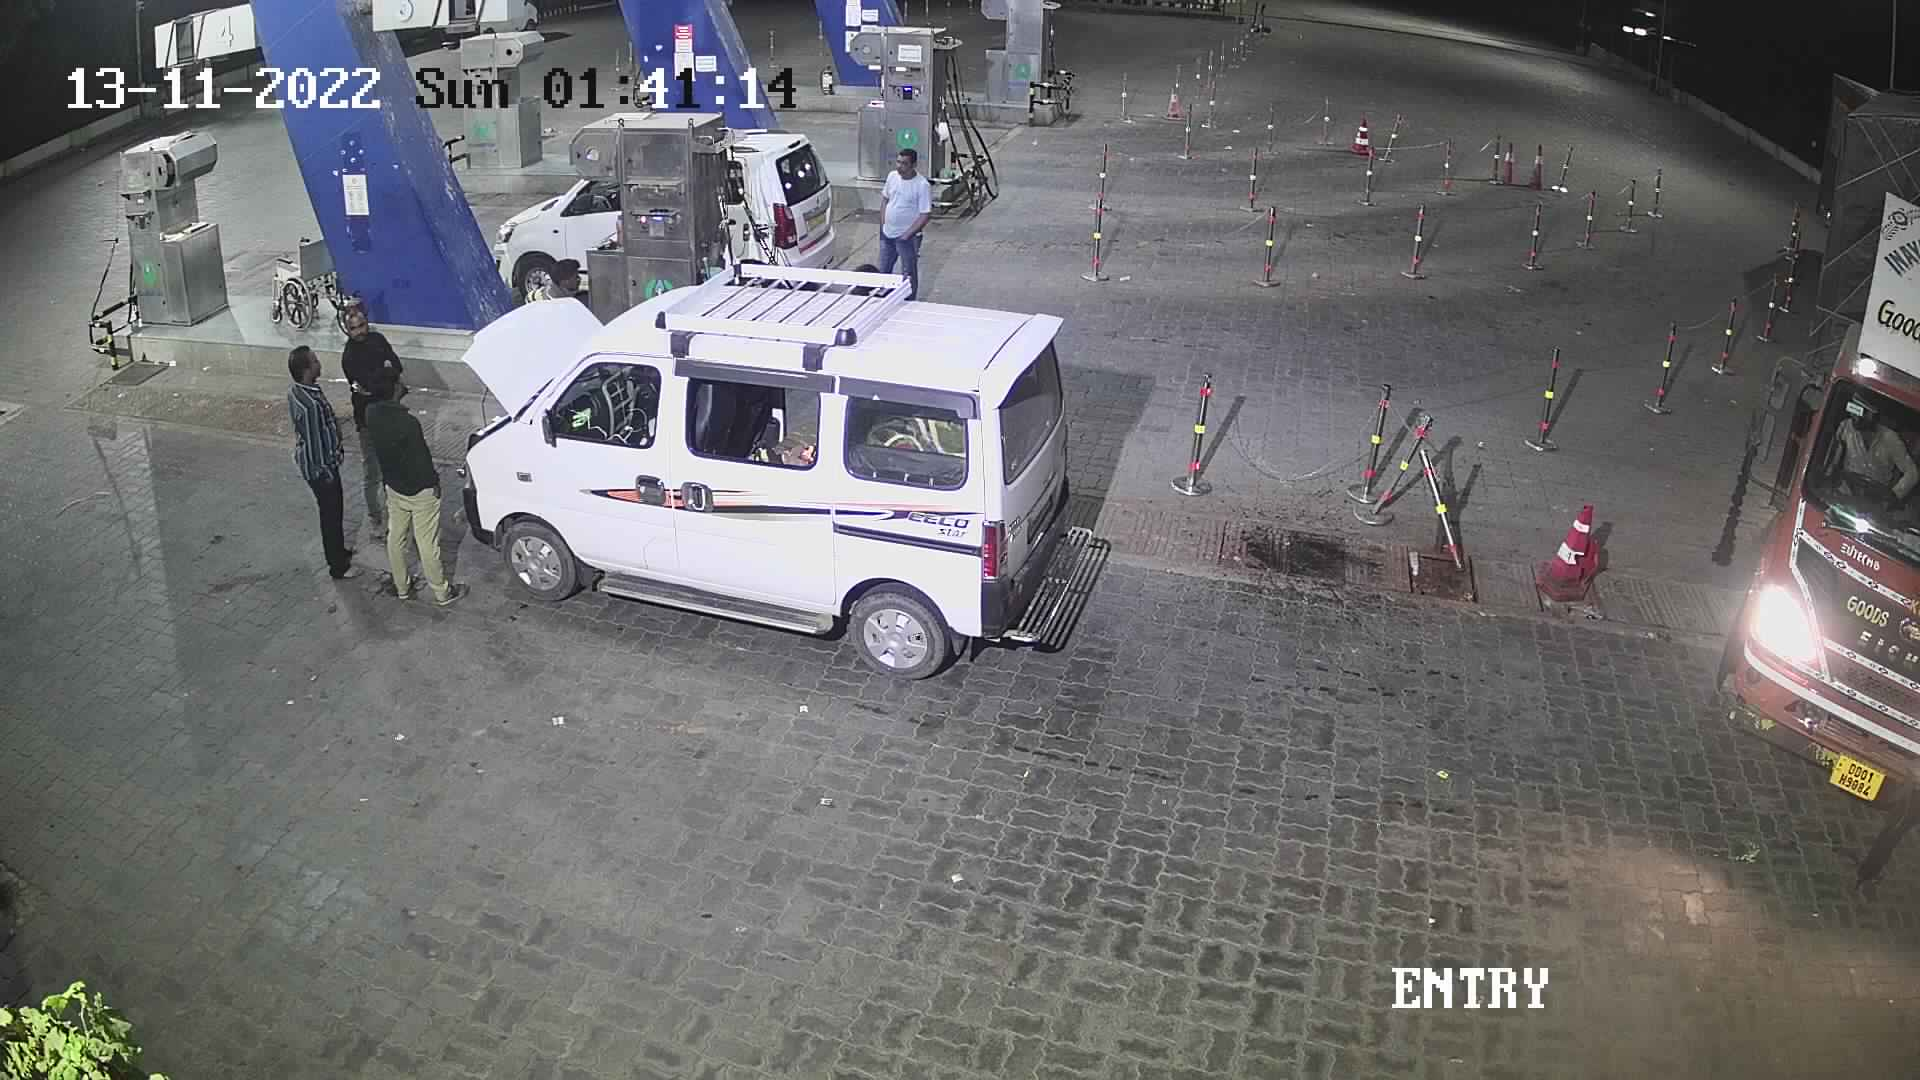Car: (446, 251, 1106, 694), (481, 156, 630, 311)
HMV: (1697, 65, 1917, 833)
